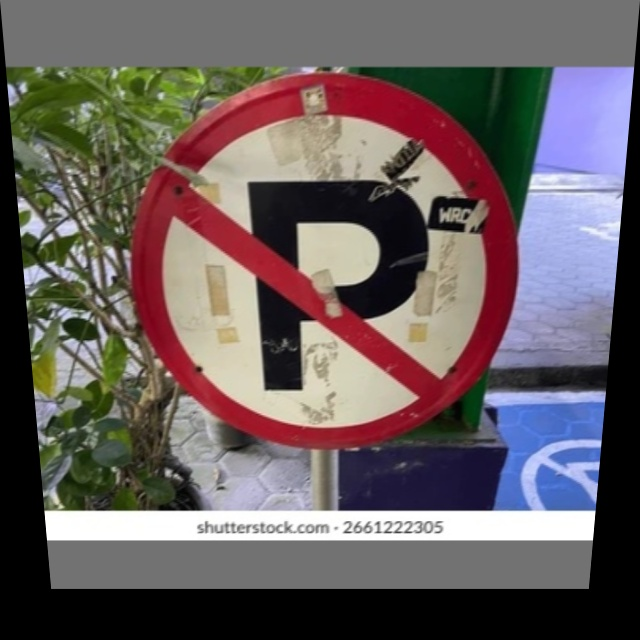No_Parking: (124, 72, 521, 437)
